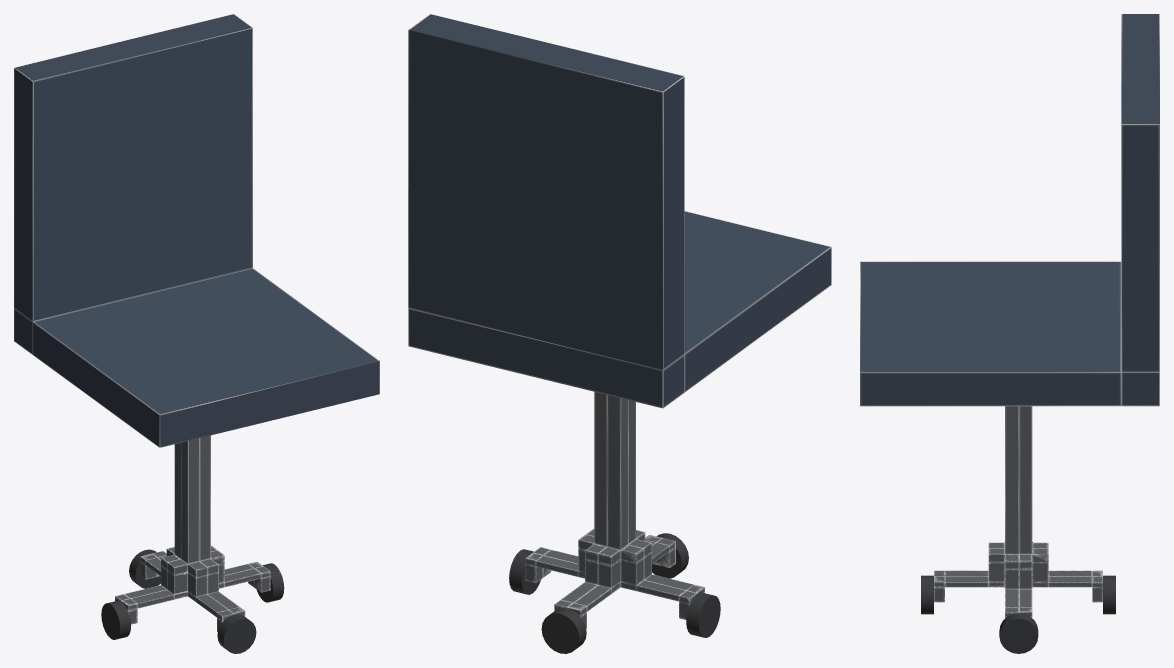
File: p_chair.fbx
3 views of the same model, side by side, from view 1: azimuth 30°, elevation 25°; view 2: azimuth 150°, elevation 25°; view 3: azimuth 270°, elevation 25° (orthographic). The views are drawn at different scales.
Visible parts, largest first — view 1: OfficeChair; view 2: OfficeChair; view 3: OfficeChair.
Part boxes in pixels (x1,y1,x2,y2): OfficeChair: (14, 14, 379, 653); OfficeChair: (408, 14, 831, 653); OfficeChair: (860, 14, 1159, 653).
Size of the model in its own units: 48 by 110 by 55.
